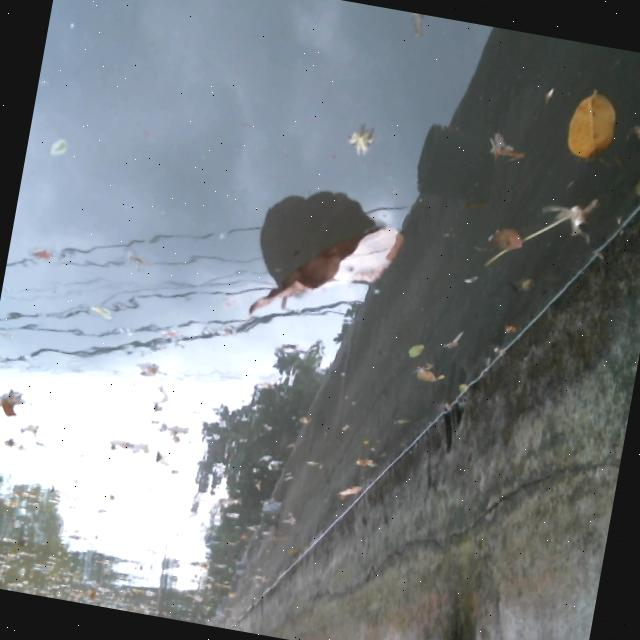Big-leaf: (243, 196, 412, 346)
Small-leaf: (554, 84, 623, 172), (482, 217, 530, 255), (406, 361, 451, 391), (346, 447, 388, 478), (41, 128, 76, 160), (399, 10, 431, 41), (624, 100, 640, 159), (84, 300, 117, 328), (0, 390, 24, 427), (401, 336, 430, 366), (335, 479, 364, 507), (26, 243, 55, 265), (625, 160, 640, 201), (135, 361, 159, 383), (390, 410, 413, 432), (500, 318, 520, 337), (290, 412, 313, 428)
